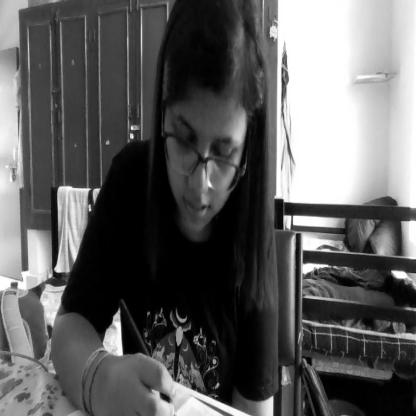Normal: (158, 0, 261, 239)
